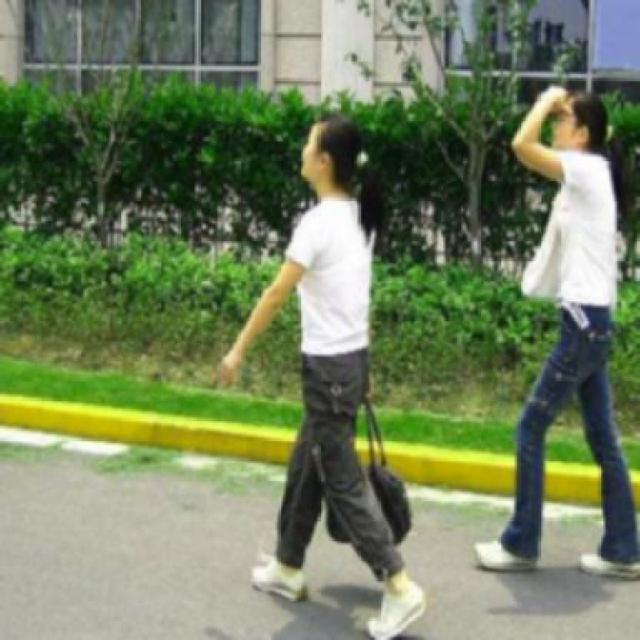Person: (210, 106, 433, 639), (471, 68, 638, 584)
